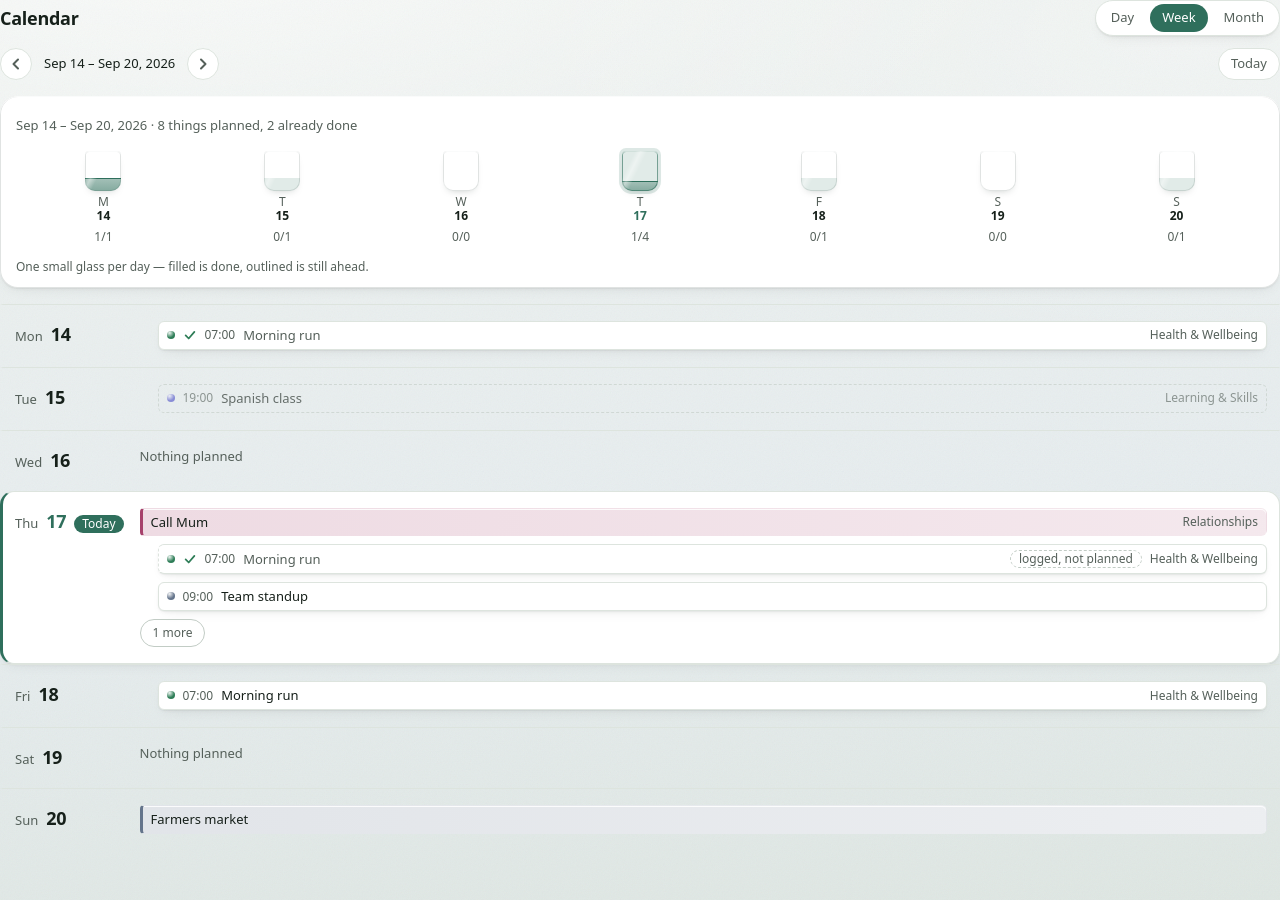
CalendarScreen › asks for a single day in the day view, and puts the now-line on it
This screenshot has width=1280, height=900.
Expected: the text "Sep 14 – Sep 20, 2026 · 8 things planned, 2 already done" is shown, [16,116,357,134]
Click the tab "Day".
click(1122, 18)  # box [1099,4,1146,32]
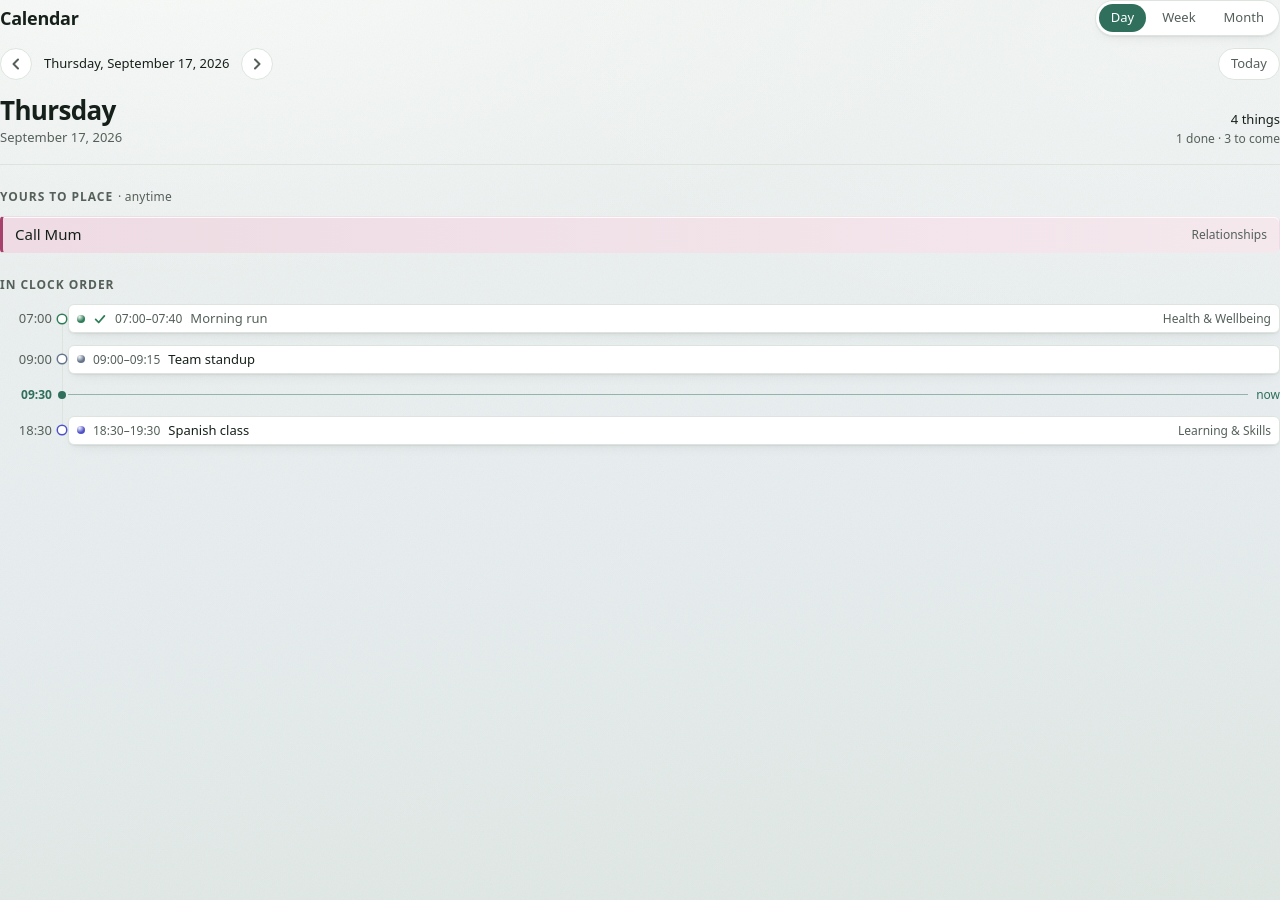
Expected: the text "Call Mum" is shown, [15,224,81,244]
Expected: the text "now" is shown, [1256,386,1279,403]
Expected: the text "09:30" is shown, [21,386,52,403]
